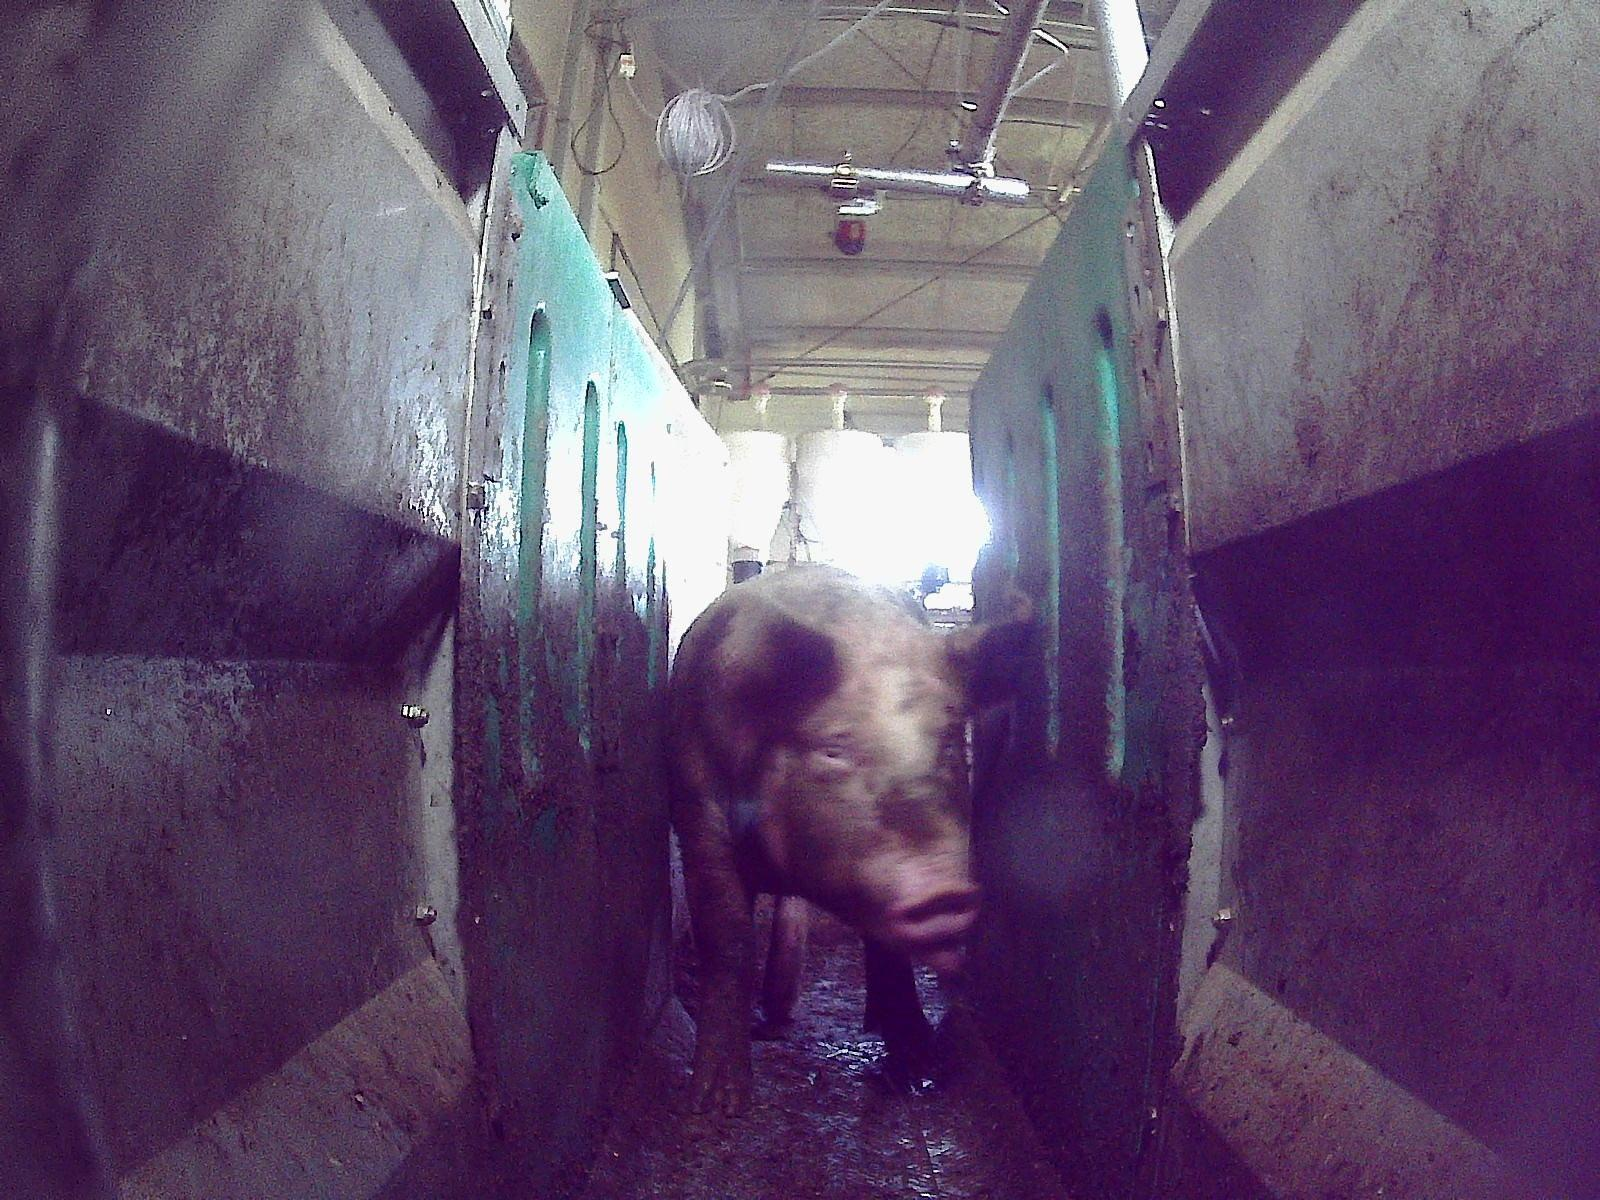Face: (749, 650, 981, 977)
